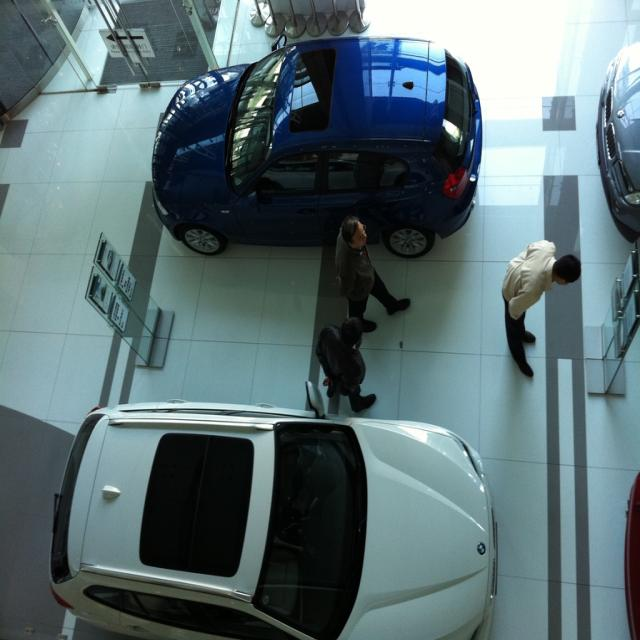car: (47, 395, 496, 638), (152, 34, 500, 257)
